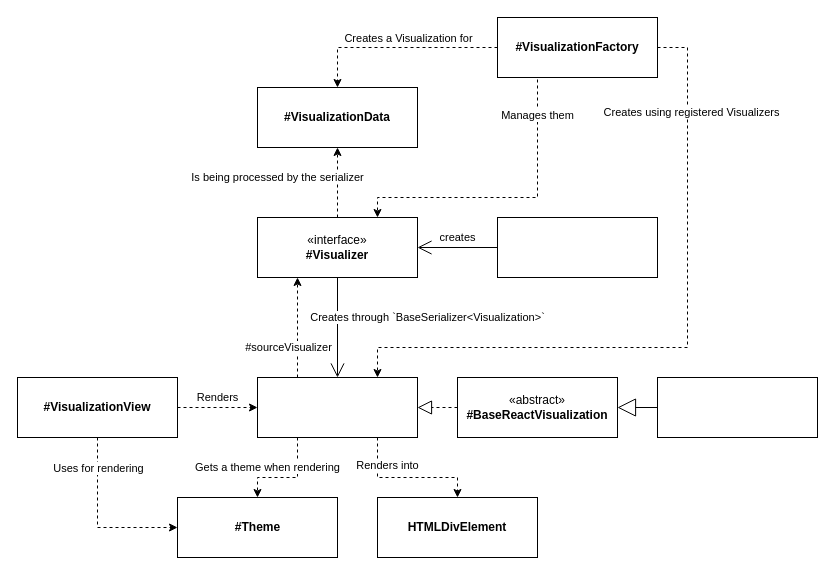
Image size: 835x575. Some labels were removed from this diagram. Each missing label, with the centre of its shape:
"#ReactVisualization" belongs at point (737, 407).
"«interface» #createVisualizer" belongs at point (577, 247).
"«interface» #Visualization" belongs at point (337, 407).
